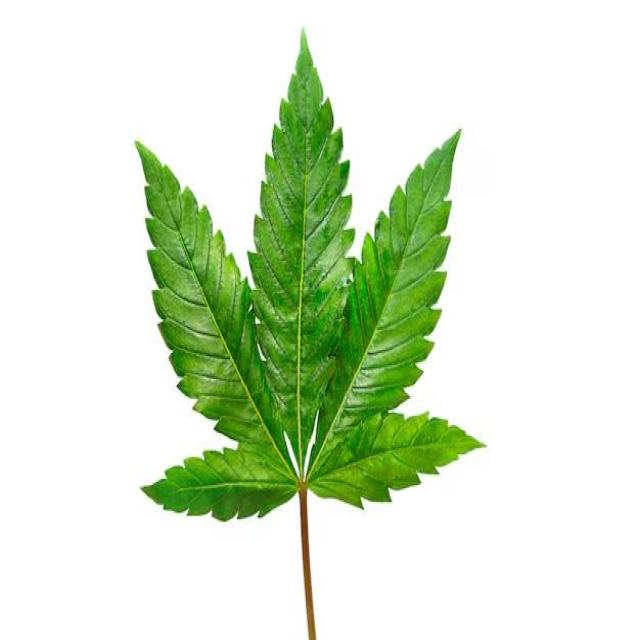cannabis: (135, 40, 484, 638)
